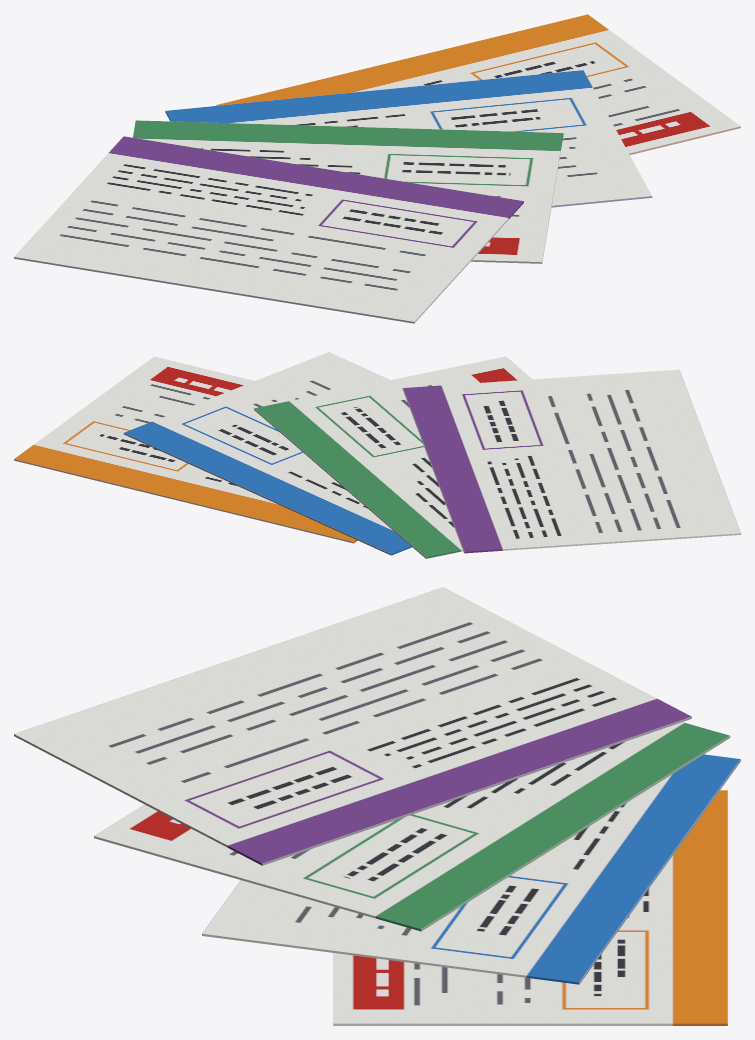
File: escena.casa.cuentas.fbx
The picture shows the model from 3 angles, top to bottom: view 1: azimuth 30°, elevation 25°; view 2: azimuth 150°, elevation 25°; view 3: azimuth 270°, elevation 25°; orthographic projection. The views are drawn at different scales.
Visible parts, largest first — view 1: Cuenta.003, Cuenta.002, Cuenta.001, Cuenta; view 2: Cuenta.003, Cuenta.002, Cuenta.001, Cuenta; view 3: Cuenta.003, Cuenta.002, Cuenta.001, Cuenta.
Boxes of the visible parts, x1,y1,x2,y2 form: Cuenta.003: (14,136,523,323); Cuenta.002: (133,120,563,263); Cuenta.001: (165,70,652,207); Cuenta: (216,14,740,154); Cuenta.003: (402,369,740,553); Cuenta.002: (254,356,531,558); Cuenta.001: (123,352,411,555); Cuenta: (14,356,357,543); Cuenta.003: (14,587,691,865); Cuenta.002: (94,722,730,931); Cuenta.001: (202,754,740,984); Cuenta: (333,790,727,1025).
Size of the model in its own units: 0.5158 by 0.0048 by 0.3683.
Materials: 4 (4 with a texture image).
